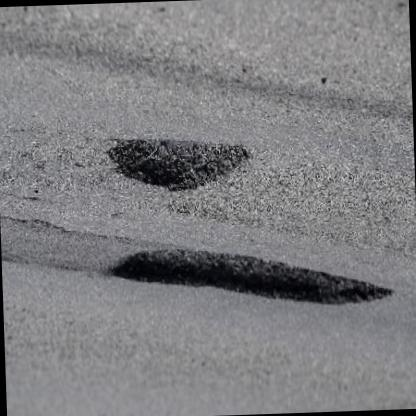pothole: (106, 239, 396, 315), (106, 130, 252, 195)
